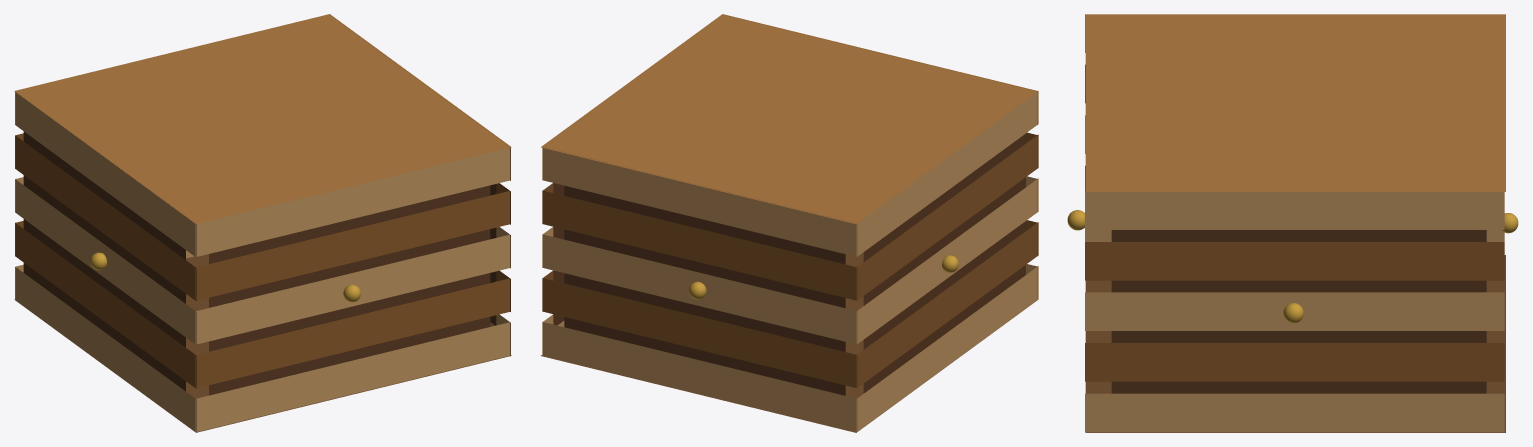
File: desert box trap.glb
3 renders of one model, left to right at view 1: azimuth 30°, elevation 25°; view 2: azimuth 150°, elevation 25°; view 3: azimuth 270°, elevation 25°, orthographic. The views are drawn at different scales.
Parts seen in each view (by area): view 1: Sphere.006; view 2: Sphere.006; view 3: Sphere.006.
Boxes of the visible parts, x1,y1,x2,y2 form: Sphere.006: (14,14,511,432); Sphere.006: (541,14,1038,432); Sphere.006: (1067,14,1518,432).
Bounding box in the file's own units: 3.36 × 1.99 × 3.37.
